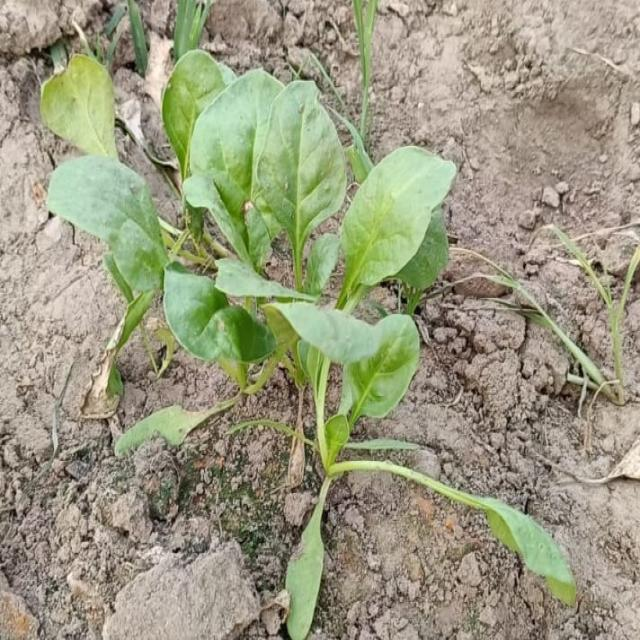plant: (40, 49, 575, 639)
